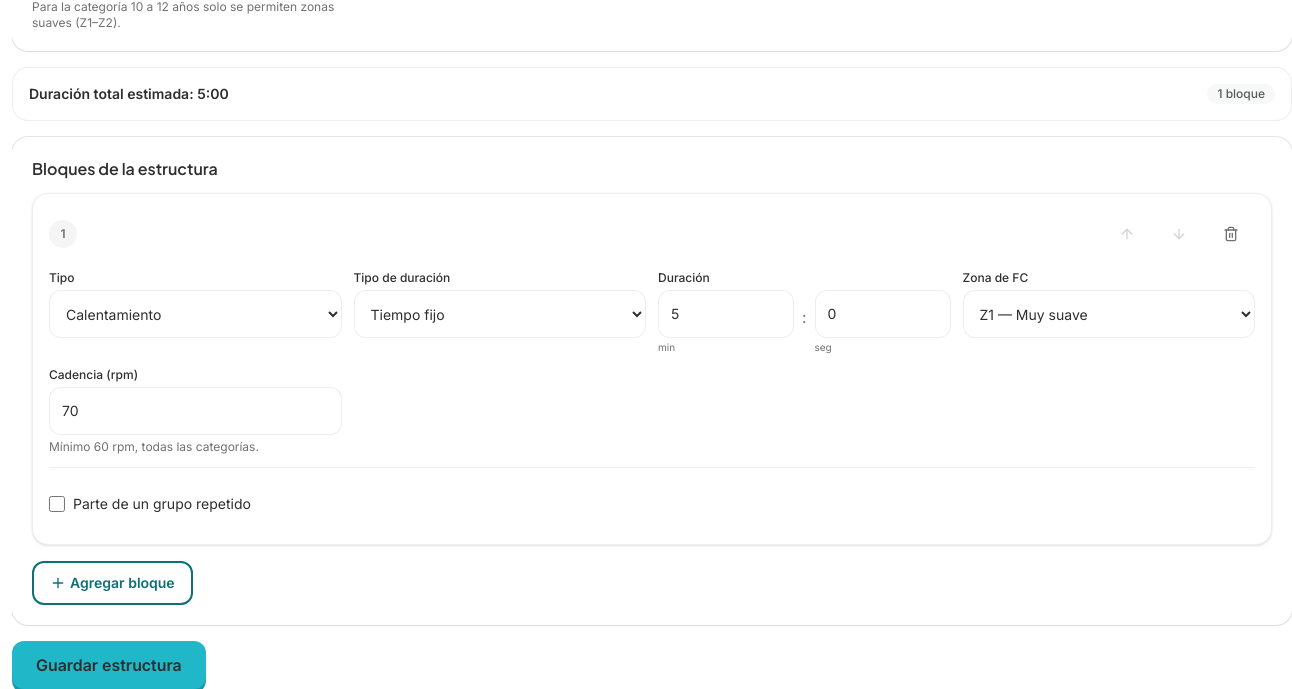
Test: StructureEditor — agregar y quitar bloques › quitar un bloque de dos reduce el conteo a uno
(page scrolled)
Click the button "Agregar bloque" at (112,583), box top-left (32, 561), bottom-right (193, 605)
(page scrolled)
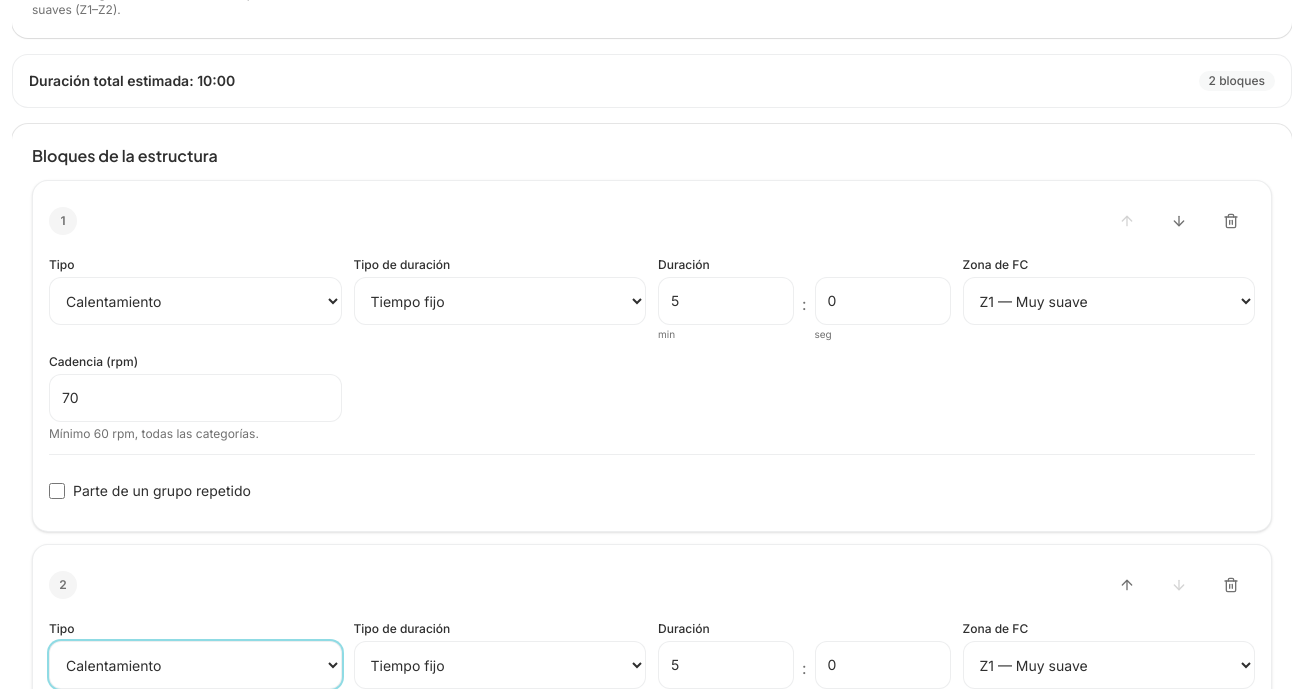
Click the button named "Quitar bloque 2" at (1231,585), box top-left (1207, 561), bottom-right (1255, 609)
(page scrolled)
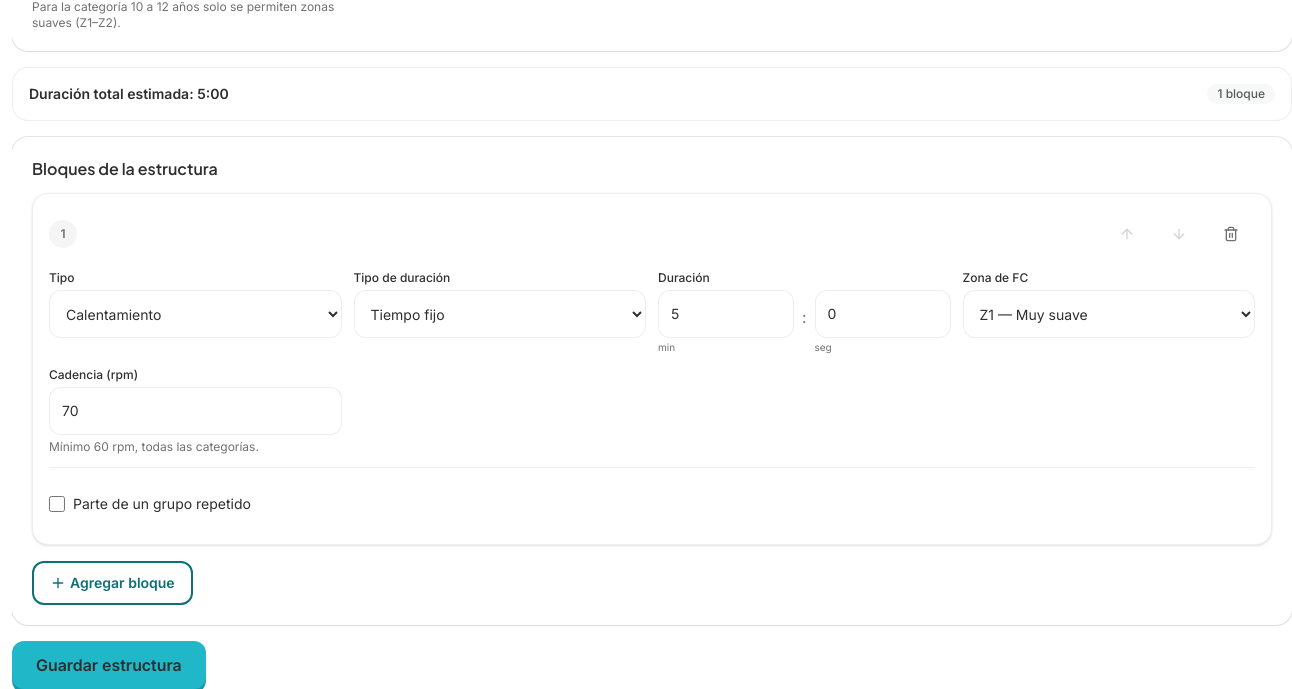
expect the number of list items is 1: met, box top-left (32, 193), bottom-right (1272, 545)
expect the text with test id "structure-block-count" reads "1 bloque": met, box top-left (1207, 84), bottom-right (1275, 104)
